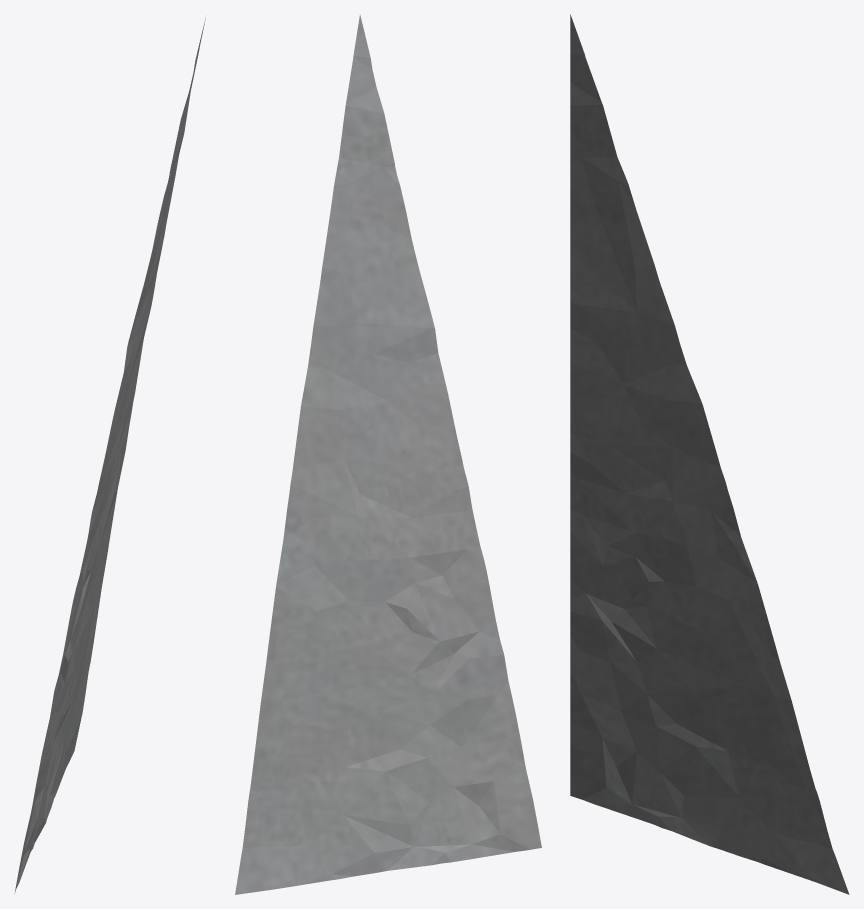
The picture shows the model from 3 angles, left to right: view 1: azimuth 30°, elevation 25°; view 2: azimuth 150°, elevation 25°; view 3: azimuth 270°, elevation 25°; orthographic projection. The views are drawn at different scales.
Bounding box in the file's own units: 0.1793 × 0.7436 × 0.2135.
Materials: 1 (1 with a texture image).
